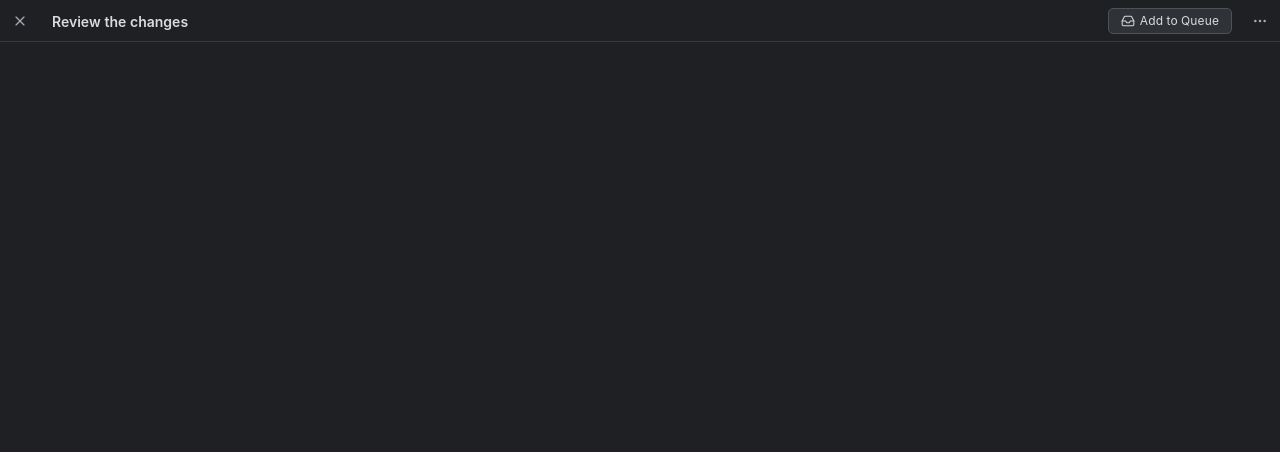
Scenario: keeps the task menu available for a held task without offering completion
What coordinates should you click on to do the following:
click the button named "More (actions for this task)"
I would click on:
 (1260, 21)
Its box is [1248, 9, 1272, 33].
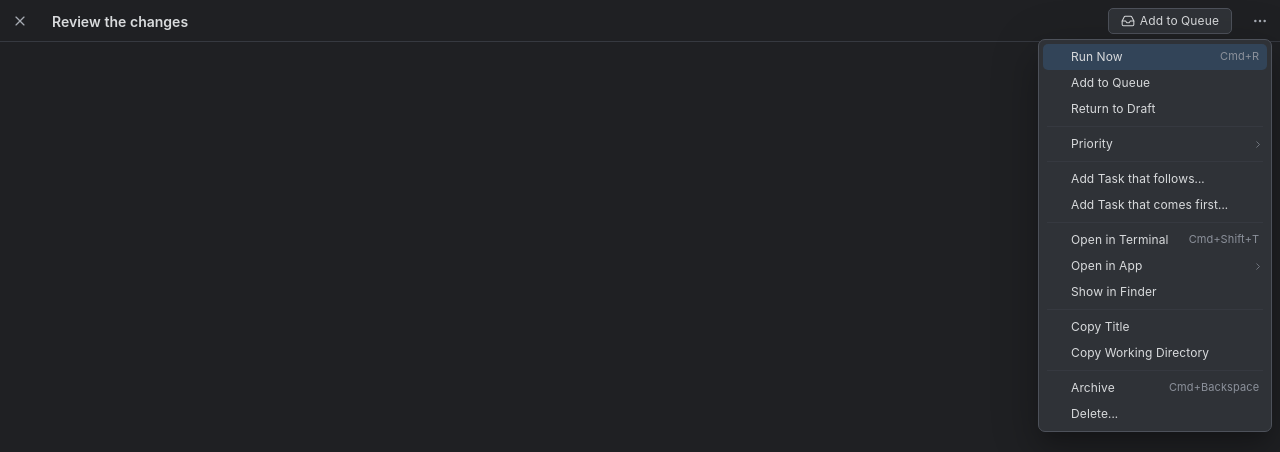
Check: the menu named "Actions for this task" is shown, box [1038, 39, 1272, 432]
